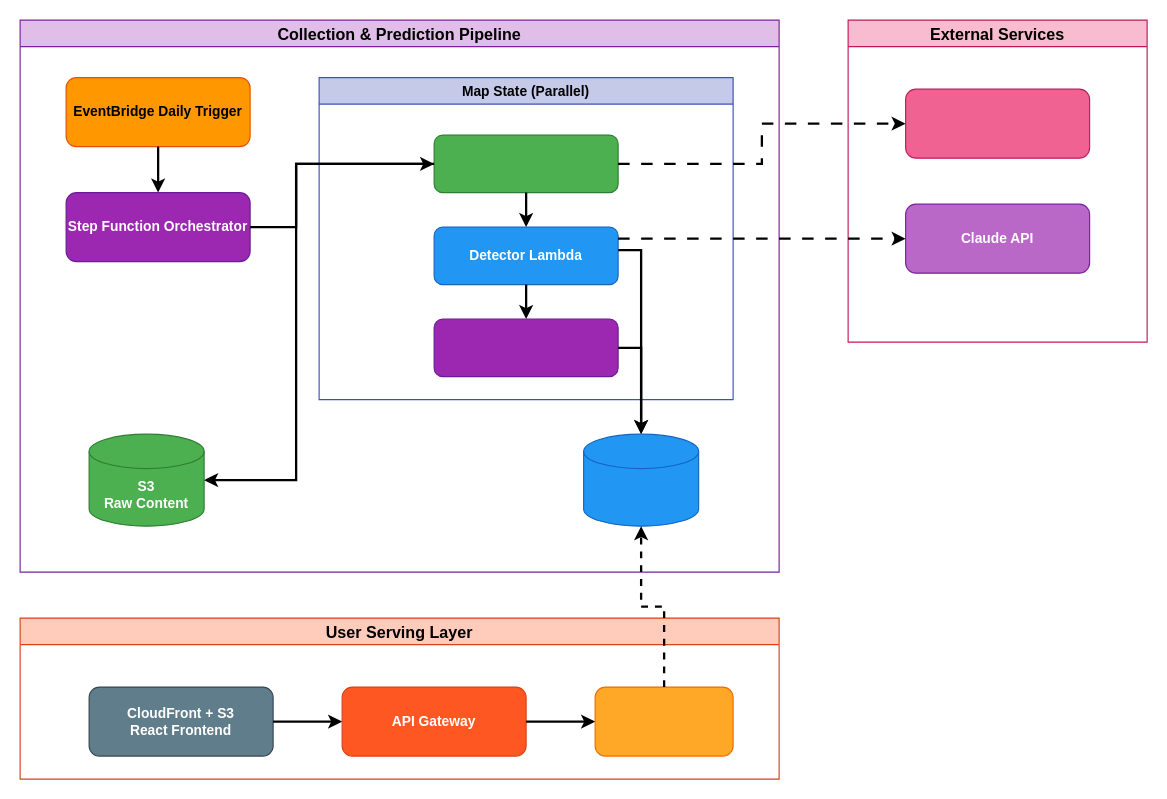
Image size: 1167x799. Some labels were removed from this diagram. The shapes that lost their labels are listed below. From the top down, each one's centre as x and y in pixels, then its label:
At (997,123): "Firecrawl API".
At (525,163): "Scraper Lambda".
At (525,347): "Predictor Lambda".
At (640,479): "DynamoDB Data Store".
At (663,721): "Query Lambdas".
